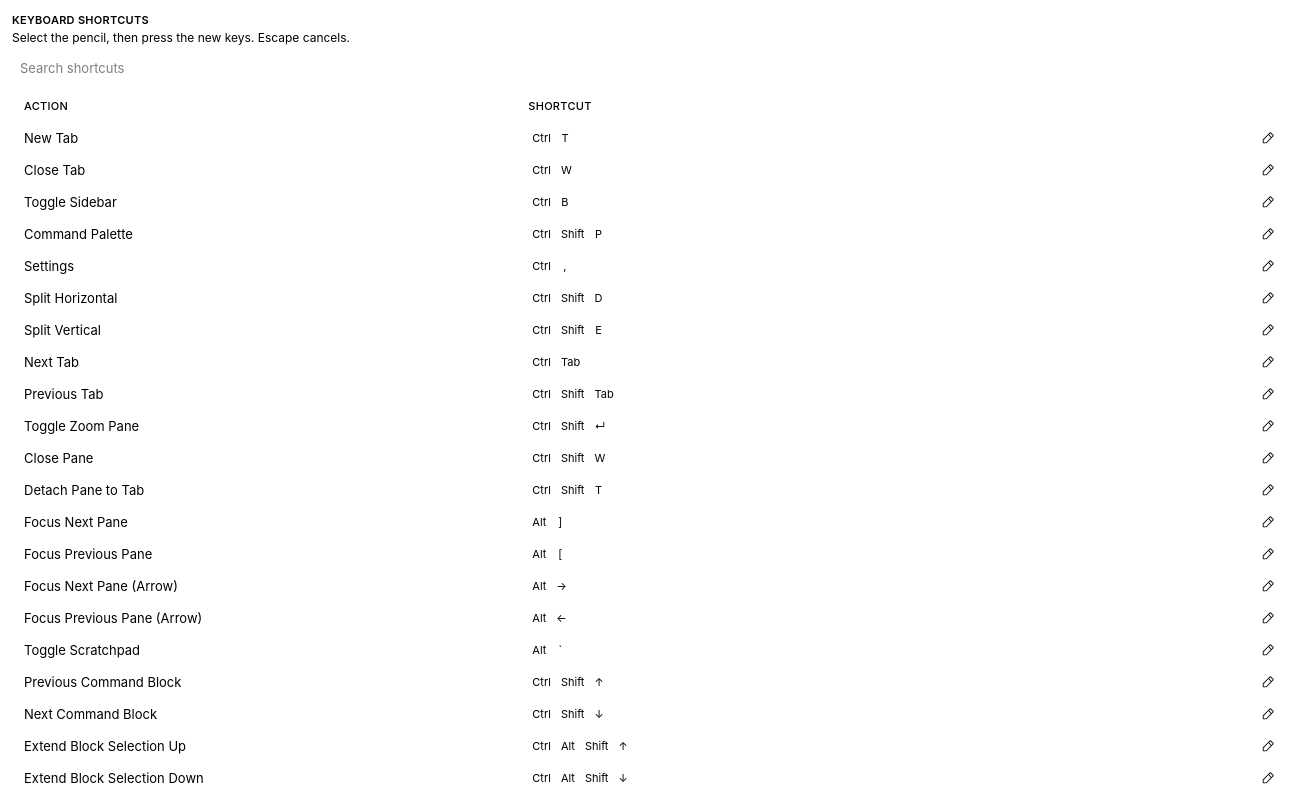
Scenario: KeybindingsPanel › cancels recording on Escape without saving
This screenshot has width=1304, height=799.
Click the button named "Change shortcut for New Tab" at (1268, 138), box left=1256, top=126, right=1280, bottom=150
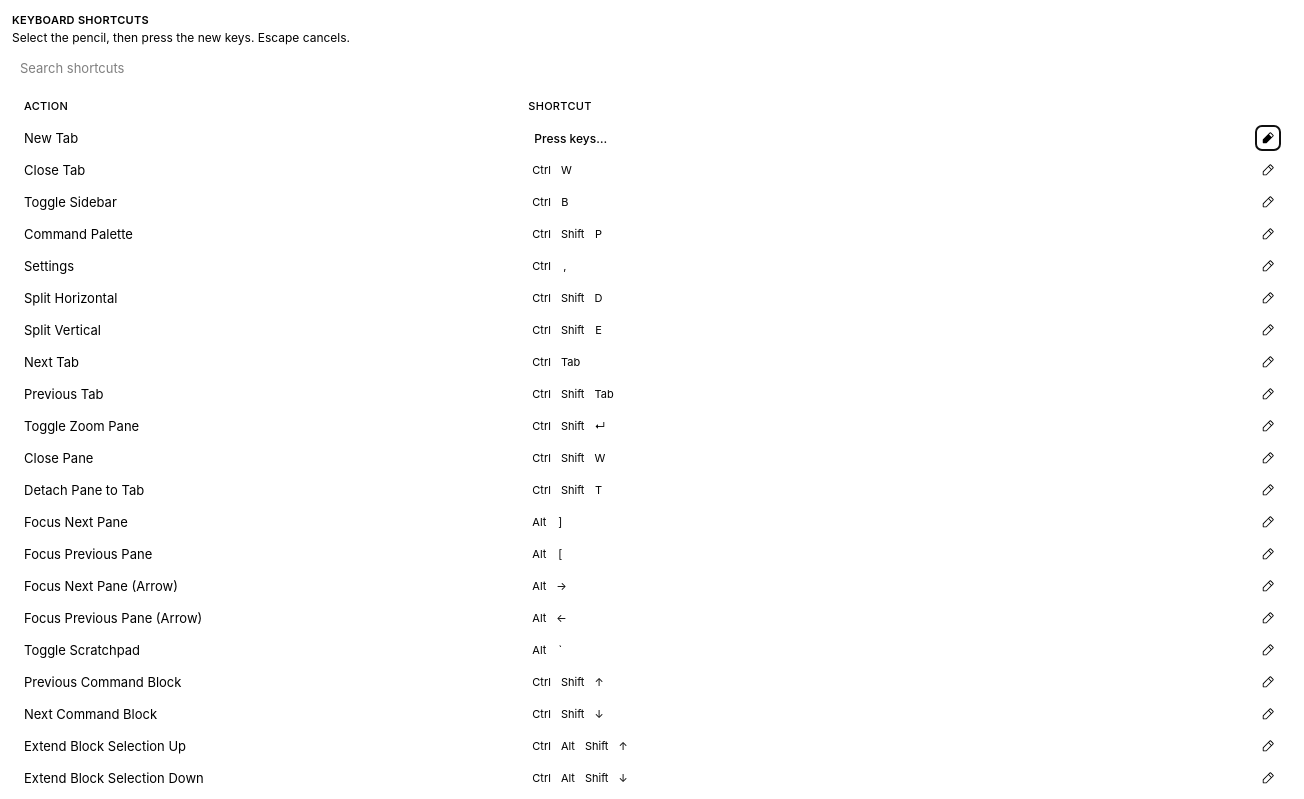
Press Escape
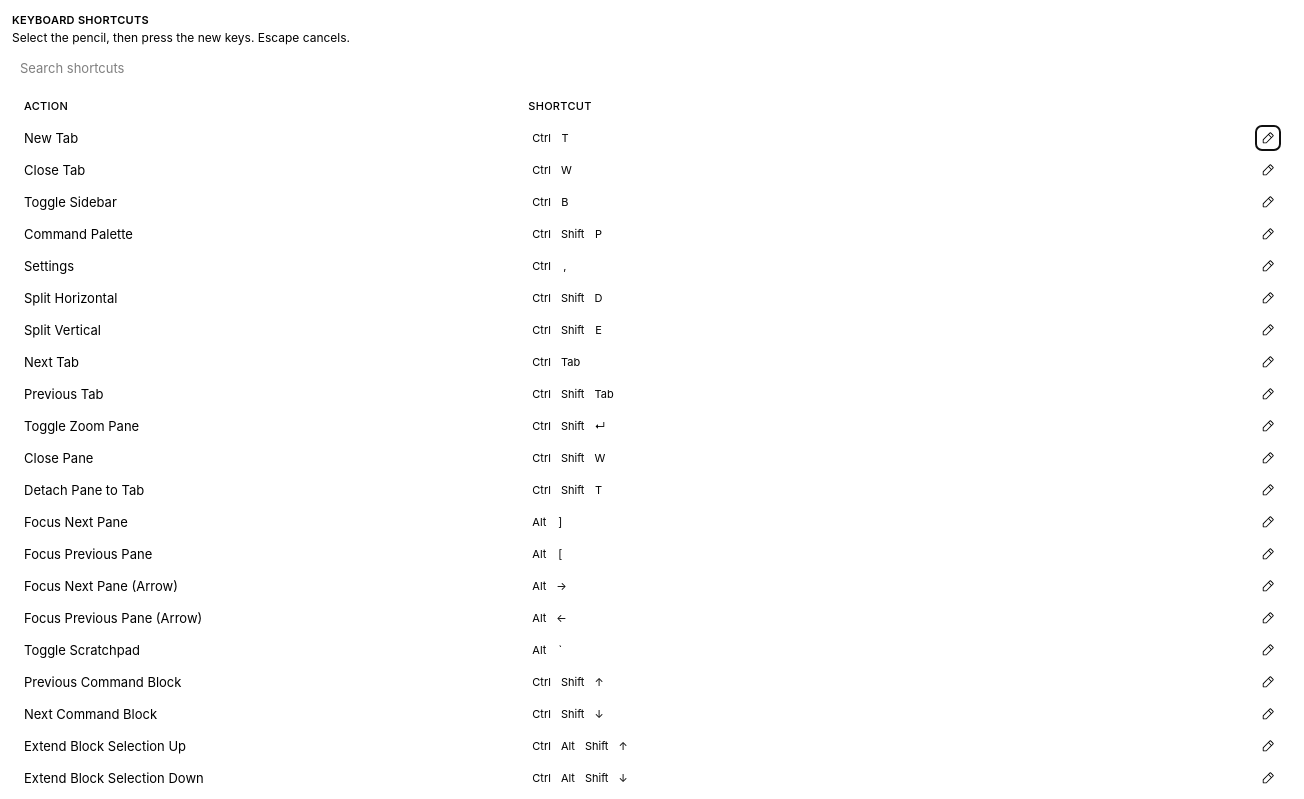
Result: the message "Press keys…" is gone
